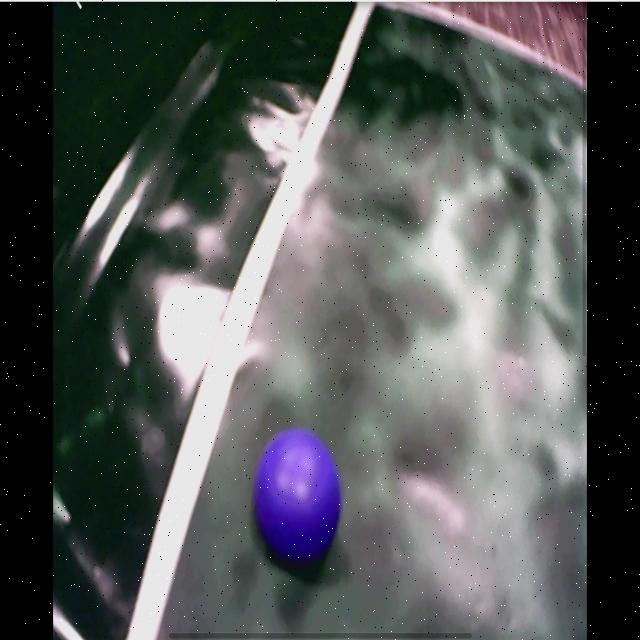ball: (254, 430, 341, 568)
